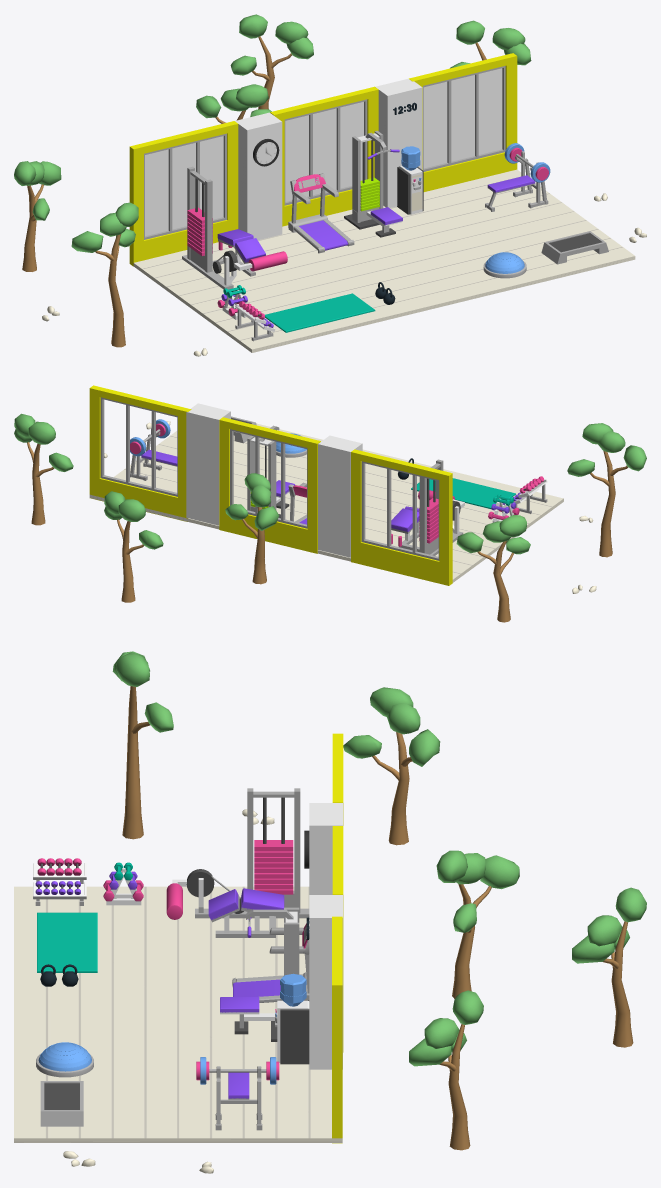
The model's file is gym.gltf.
The picture shows the model from 3 angles, top to bottom: view 1: azimuth 30°, elevation 25°; view 2: azimuth 150°, elevation 25°; view 3: azimuth 270°, elevation 25°; orthographic projection. The views are drawn at different scales.
Parts seen in each view (by area): view 1: Box341, Plane006, Plane004, Plane005, Box263, Box270, Box299, Box298, Box296, Box255, Box300, Box297 (+21 smaller); view 2: Box341, Box263, Box296, Box299, Box298, Box270, Box269, Box300, Box297, Box255, Cylinder247, Cylinder180 (+19 smaller); view 3: Box341, Box298, Box255, Box299, Box270, Cylinder247, Box346, Cylinder326, Cylinder180, Cylinder177, Sphere014, Box271 (+21 smaller).
Boxes of the visible parts, box(x1,y1,x2,y2) form: Box341: box(133, 169, 635, 352); Plane006: box(423, 68, 502, 168); Plane004: box(145, 136, 223, 236); Plane005: box(285, 102, 363, 201); Box263: box(129, 121, 238, 266); Box270: box(235, 112, 282, 240); Box299: box(409, 53, 517, 191); Box298: box(375, 78, 422, 208); Box296: box(270, 86, 378, 226); Box255: box(265, 293, 375, 332); Box300: box(423, 66, 505, 171); Box297: box(284, 99, 367, 205); Box341: box(89, 423, 563, 582); Box263: box(351, 449, 452, 585); Box296: box(219, 417, 320, 553); Box299: box(89, 385, 191, 521); Box298: box(186, 403, 230, 525); Box270: box(318, 435, 362, 557); Box269: box(361, 461, 439, 560); Box300: box(100, 397, 177, 496); Box297: box(230, 429, 307, 528); Box255: box(411, 478, 515, 509); Cylinder247: box(599, 451, 615, 557); Cylinder180: box(31, 443, 45, 525); Box341: box(14, 886, 342, 1142); Box298: box(309, 895, 342, 1069); Box255: box(37, 912, 97, 972); Box299: box(332, 916, 342, 1143); Box270: box(309, 803, 342, 894); Cylinder247: box(122, 686, 143, 839); Box346: box(280, 1000, 309, 1064); Cylinder326: box(611, 921, 633, 1047); Cylinder180: box(448, 1024, 470, 1150); Cylinder177: box(388, 732, 409, 845); Sphere014: box(38, 1042, 91, 1071); Box271: box(40, 1081, 83, 1126).
Size of the model in its own units: 0.5245 by 0.1224 by 0.38.
Materials: 18 (4 with a texture image).
